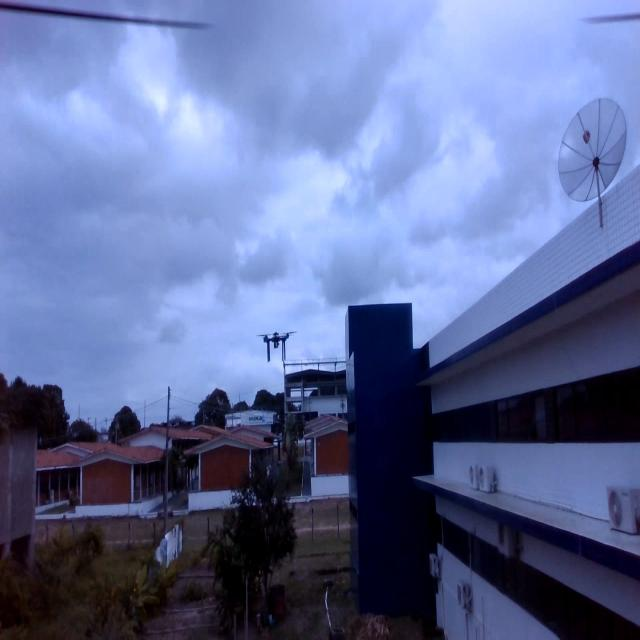-uav-: (254, 313, 298, 373)
